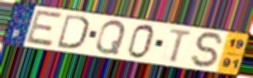0: (126, 23, 157, 60)
D: (55, 13, 90, 51)
E: (23, 8, 64, 48)
Q: (94, 19, 127, 56)
S: (190, 31, 227, 69)
T: (168, 27, 195, 63)
